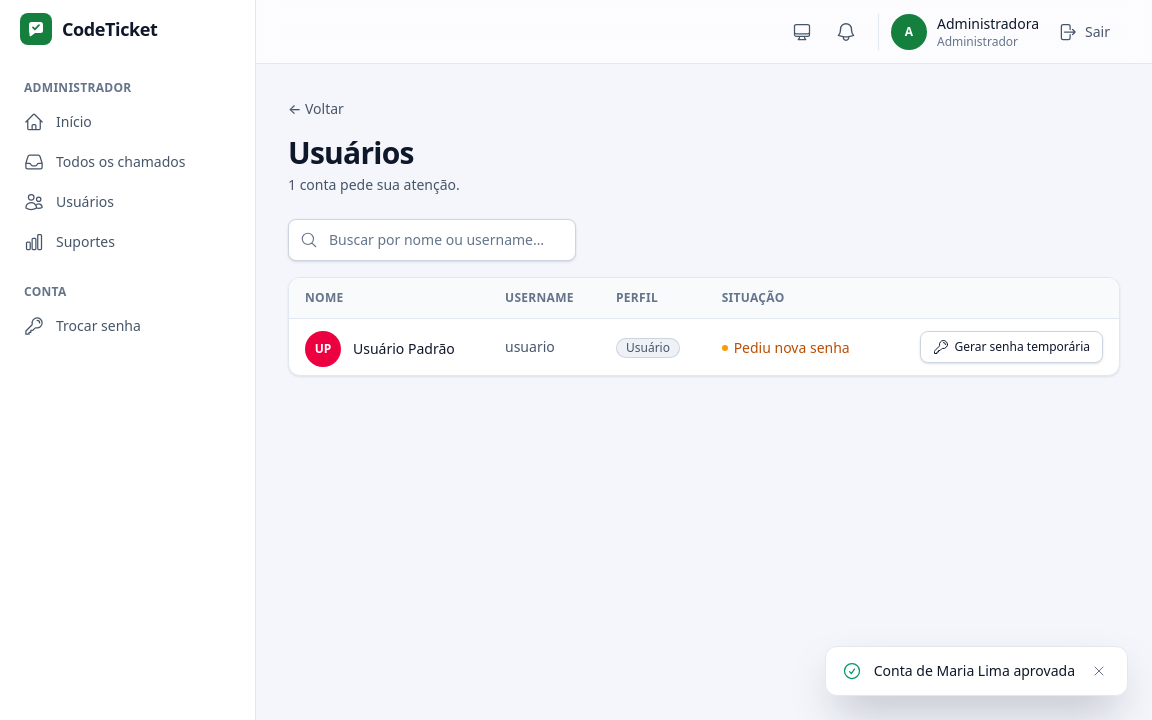
UsersView › shows a temporary password once so the admin can hand it over
Click the button with aria-label "Gerar senha temporária para Usuário Padrão". click: (1011,347)
box: [920,331,1103,363]
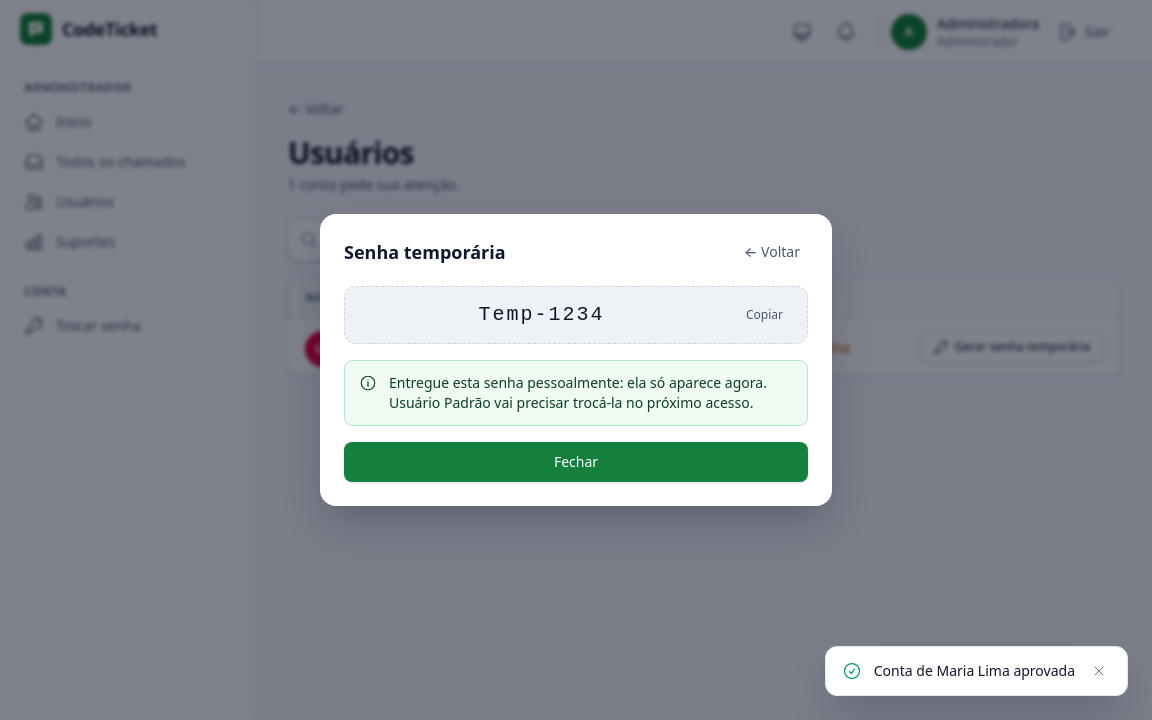
Expected: the text "Temp-1234" is shown, [478,303,604,326]
Expected: the text "Usuário Padrão vai precisar trocá-la no próximo acesso" is shown, [389,373,767,412]
Click the button "Fechar". click: (576,462)
box: [344,442,808,482]
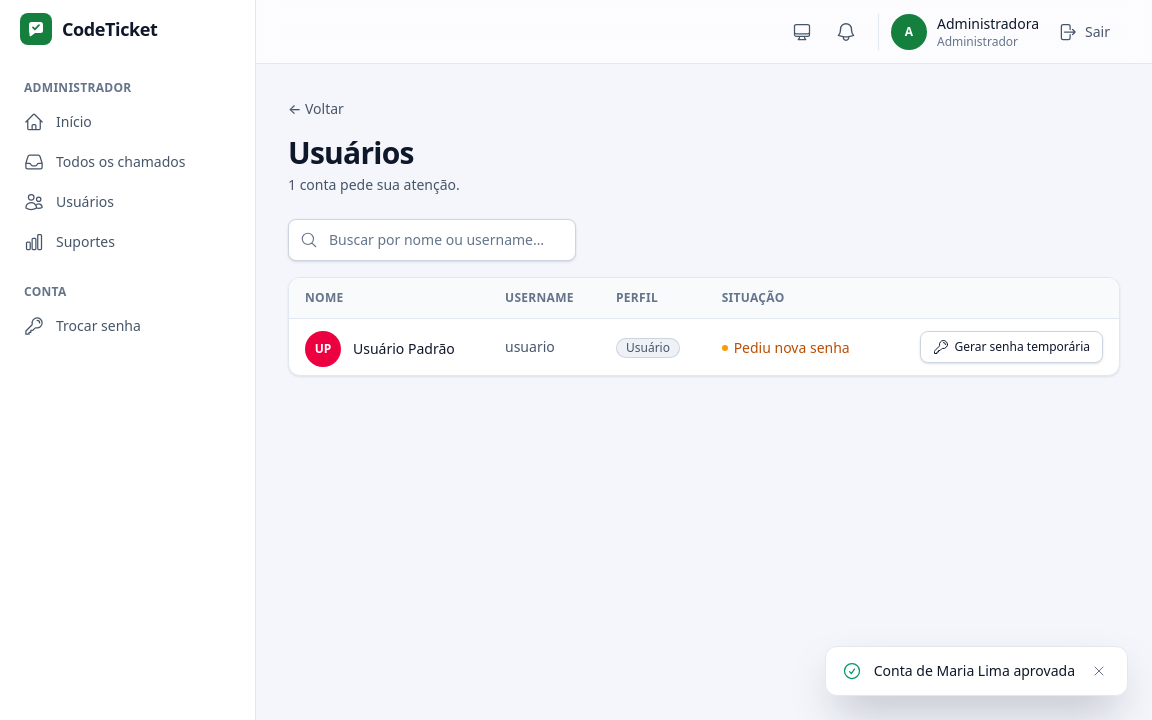
Expected: the dialog is gone
